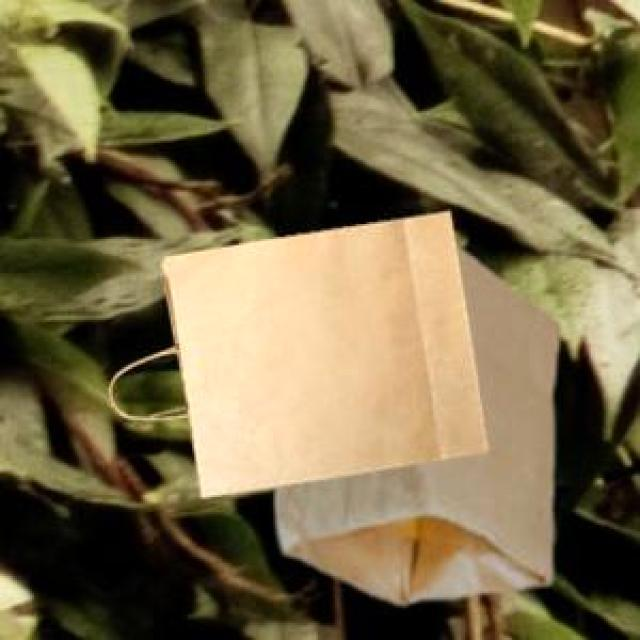Paper_Bag: (106, 208, 486, 494), (272, 244, 556, 601)
